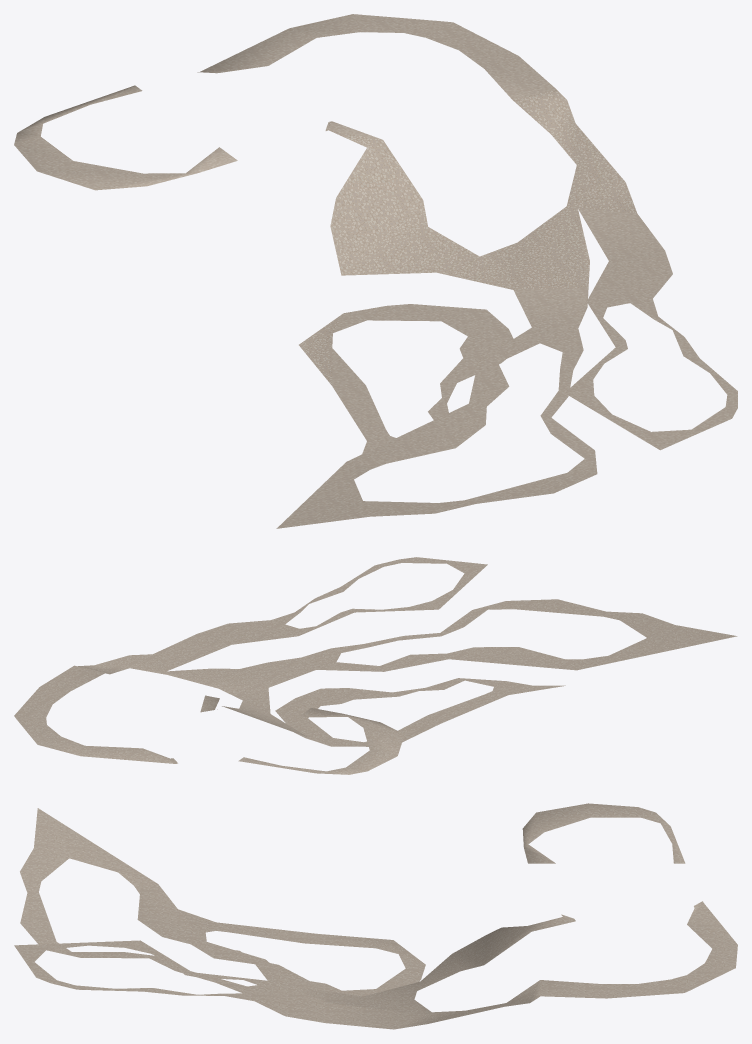
Rendered from kd_connection_town-ground_surface_4_4.glb.
3 views of the same model, one above another, from view 1: azimuth 30°, elevation 25°; view 2: azimuth 150°, elevation 25°; view 3: azimuth 270°, elevation 25° (orthographic). The views are drawn at different scales.
Parts seen in each view (by area): view 1: kd_connection_town-ground_surface_4_4; view 2: kd_connection_town-ground_surface_4_4; view 3: kd_connection_town-ground_surface_4_4.
Boxes of the visible parts, box(x1,y1,x2,y2) form: kd_connection_town-ground_surface_4_4: box(14, 14, 737, 528); kd_connection_town-ground_surface_4_4: box(14, 557, 737, 774); kd_connection_town-ground_surface_4_4: box(14, 803, 737, 1029).
Size of the model in its own units: 59.73 by 10.5 by 79.65.
1 material, 1 textured.
